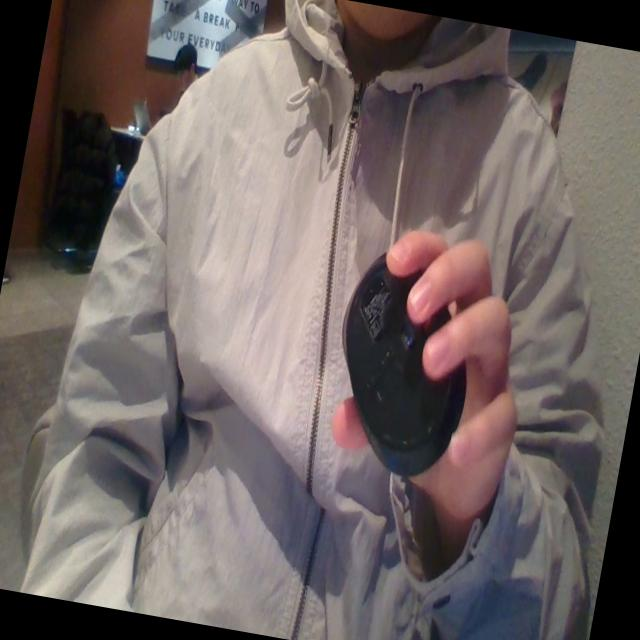grab_mouse: (304, 202, 559, 547)
mouse: (317, 253, 480, 487)
